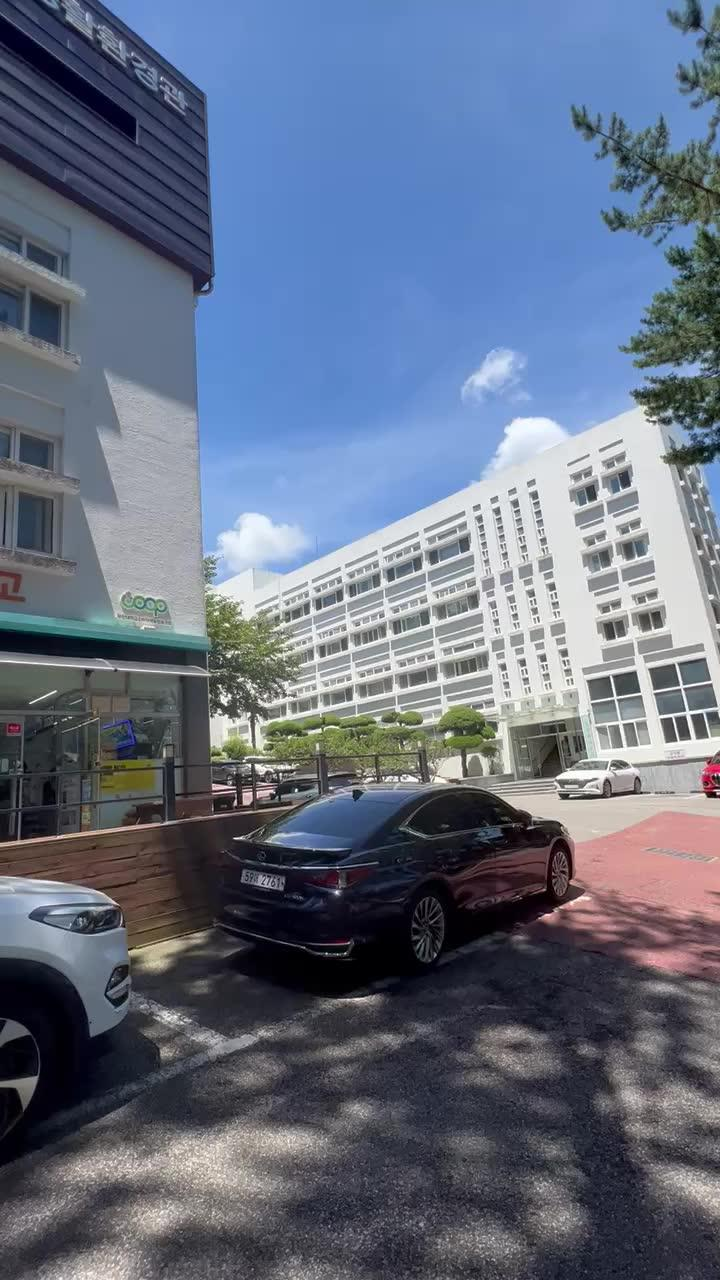building: (248, 370, 720, 710), (7, 7, 199, 809)
